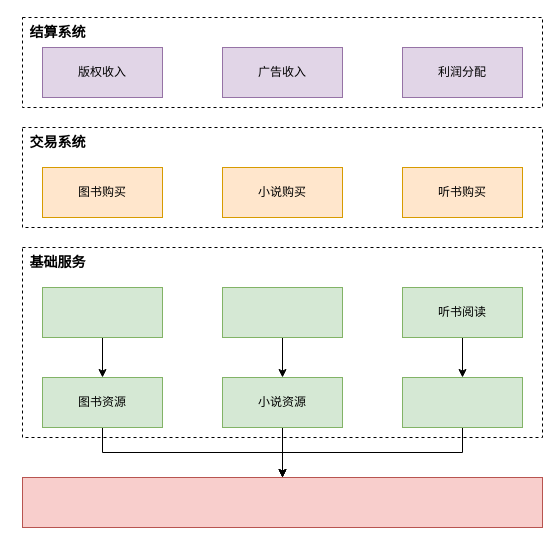
Some shapes in this 560 by 545 pixel diagram are drawn without their labels. The centre of each missing label's shape, as x and y in pixels:
ISS存储服务: (282,502)
听书资源: (462,402)
图书阅读: (102,312)
小说阅读: (282,312)
